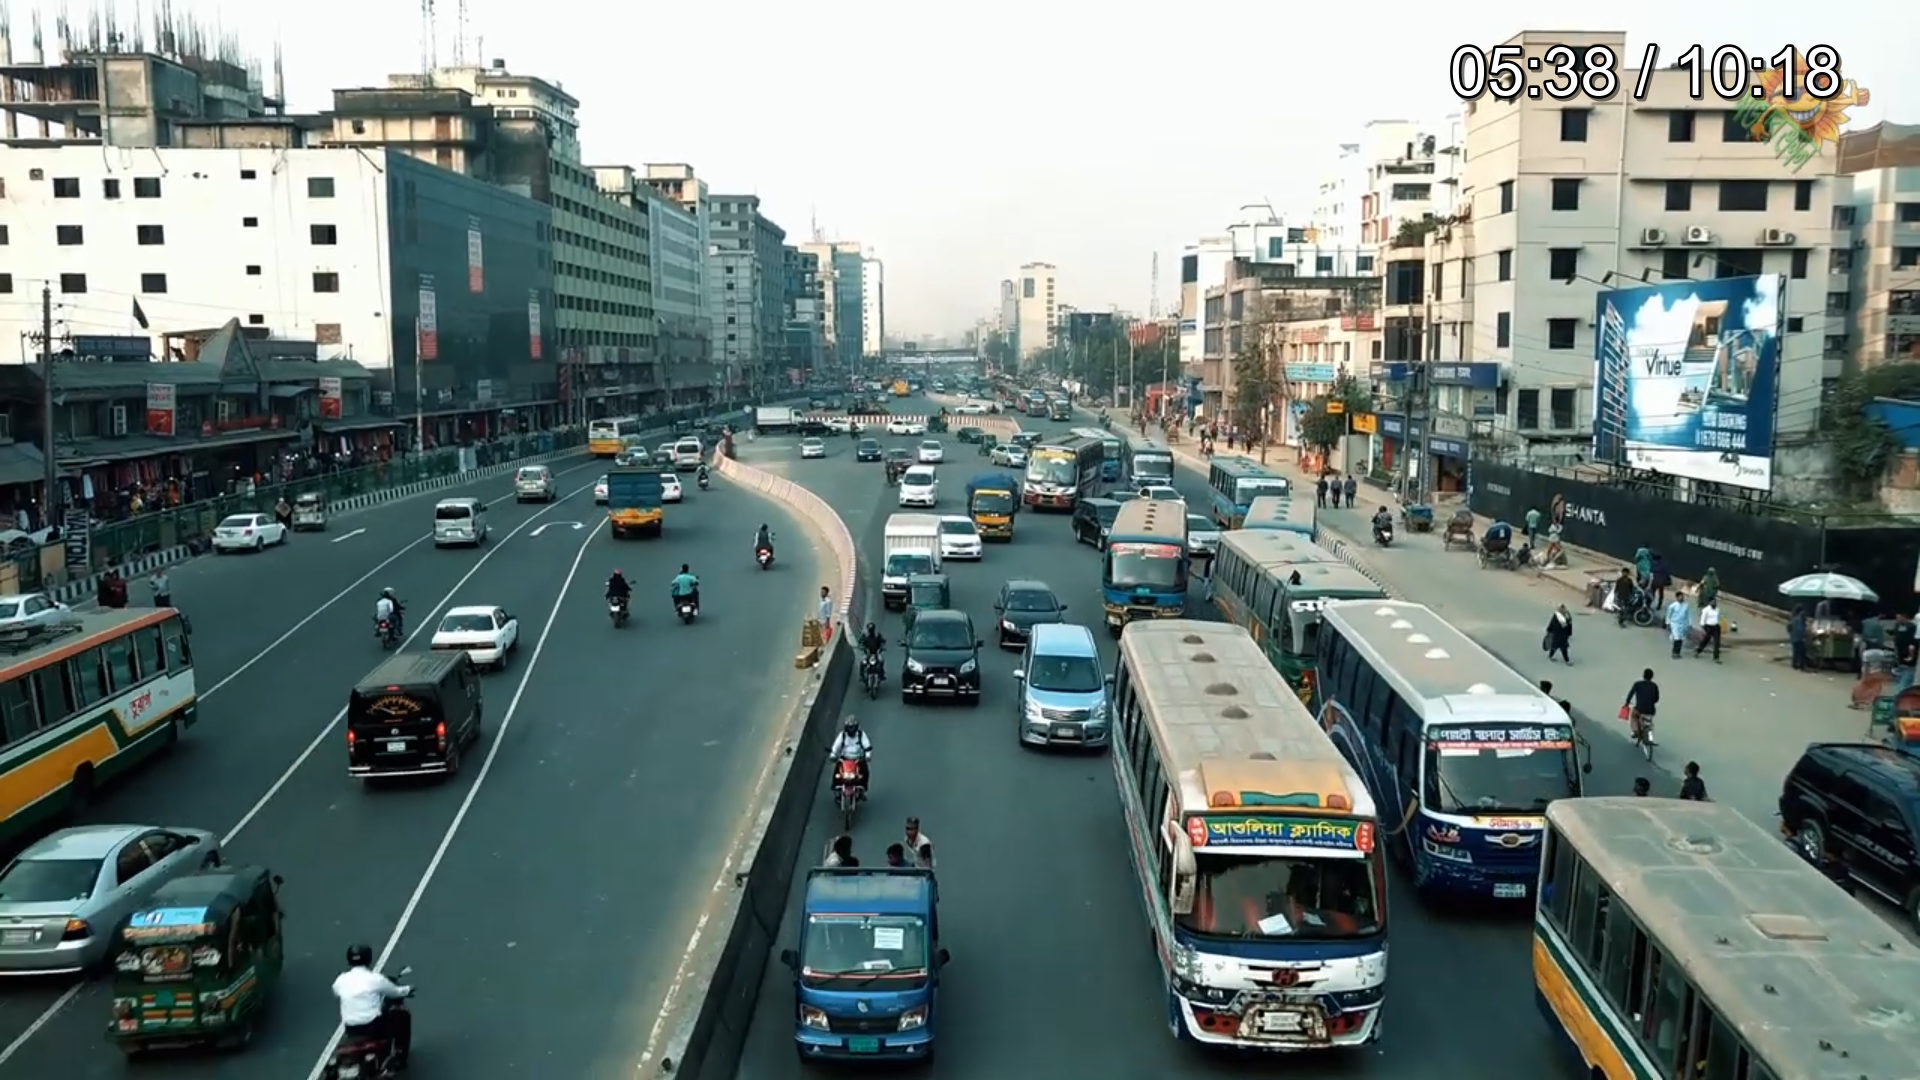MotorCycle: (326, 930, 422, 1080), (822, 705, 886, 832), (593, 563, 645, 634), (662, 559, 707, 636), (857, 616, 889, 698)
